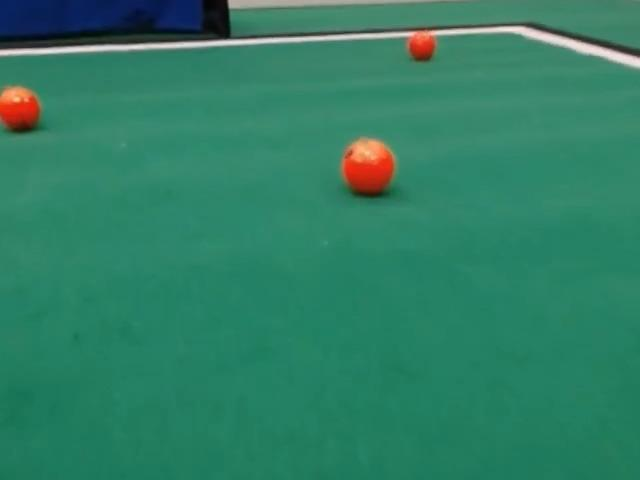Ball: (341, 138, 395, 195), (0, 86, 40, 132), (407, 31, 435, 61)
